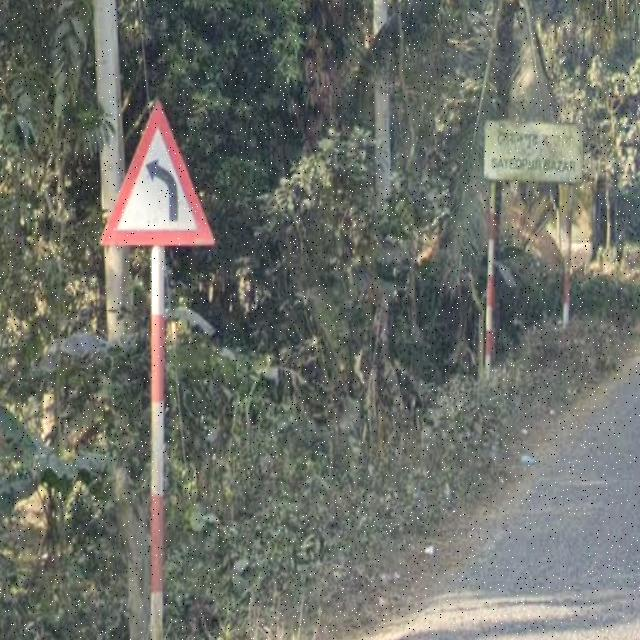Left-Turn: (100, 103, 216, 248)
